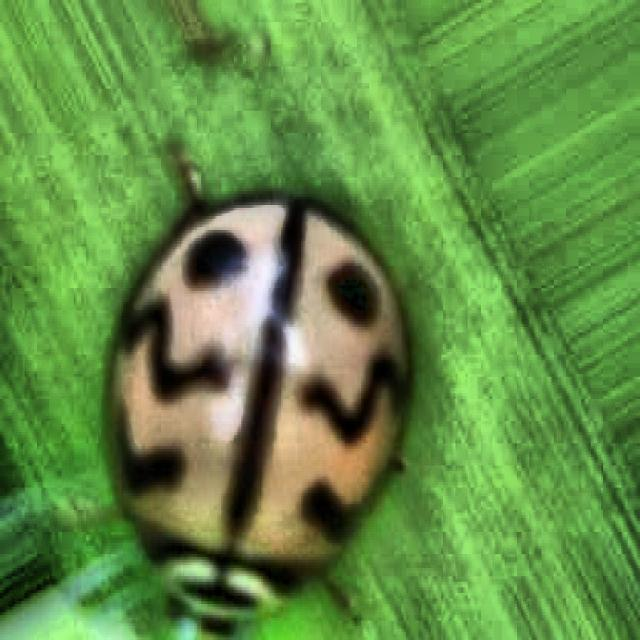Asian-Lady-beetle: (89, 140, 455, 621)
